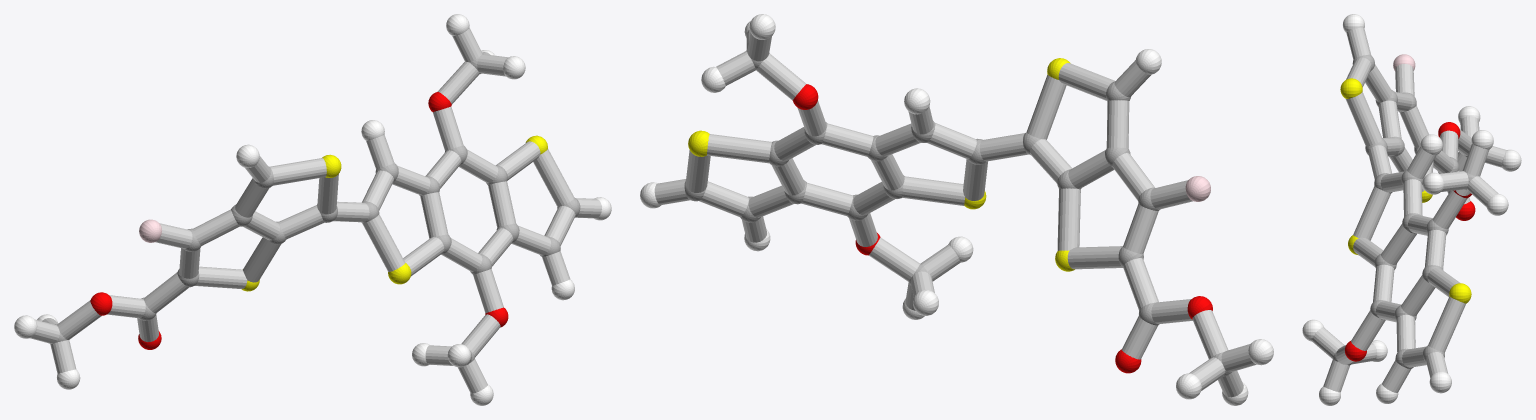
File: Dimethoxy_Benzodithiophene_Phi_10_Theta_300_Methylcarbonyl_3_Fluoro_Thienothiophene.glb
3 renders of one model, left to right at view 1: azimuth 30°, elevation 25°; view 2: azimuth 150°, elevation 25°; view 3: azimuth 270°, elevation 25°, orthographic. The views are drawn at different scales.
Parts seen in each view (by area): view 1: grp15205, grp8689, grp1, grp13395, grp7241; view 2: grp15205, grp8689, grp1, grp13395, grp7241; view 3: grp15205, grp8689, grp1, grp7241, grp13395, grp14843.
Part boxes in pixels (<box>): grp15205: <box>30,27,601,393</box>; grp8689: <box>14,14,611,405</box>; grp1: <box>50,53,580,362</box>; grp13395: <box>90,92,508,349</box>; grp7241: <box>242,135,547,291</box>; grp15205: <box>654,29,1256,397</box>; grp8689: <box>640,14,1273,405</box>; grp1: <box>684,49,1231,376</box>; grp13395: <box>792,84,1212,373</box>; grp7241: <box>688,58,1074,271</box>; grp15205: <box>1311,27,1506,392</box>; grp8689: <box>1302,14,1521,405</box>; grp1: <box>1333,54,1475,368</box>; grp7241: <box>1340,78,1471,303</box>; grp13395: <box>1344,122,1475,361</box>; grp14843: <box>1393,54,1415,71</box>.
Bounding box in the file's own units: 17.07 × 8.93 × 5.9.
